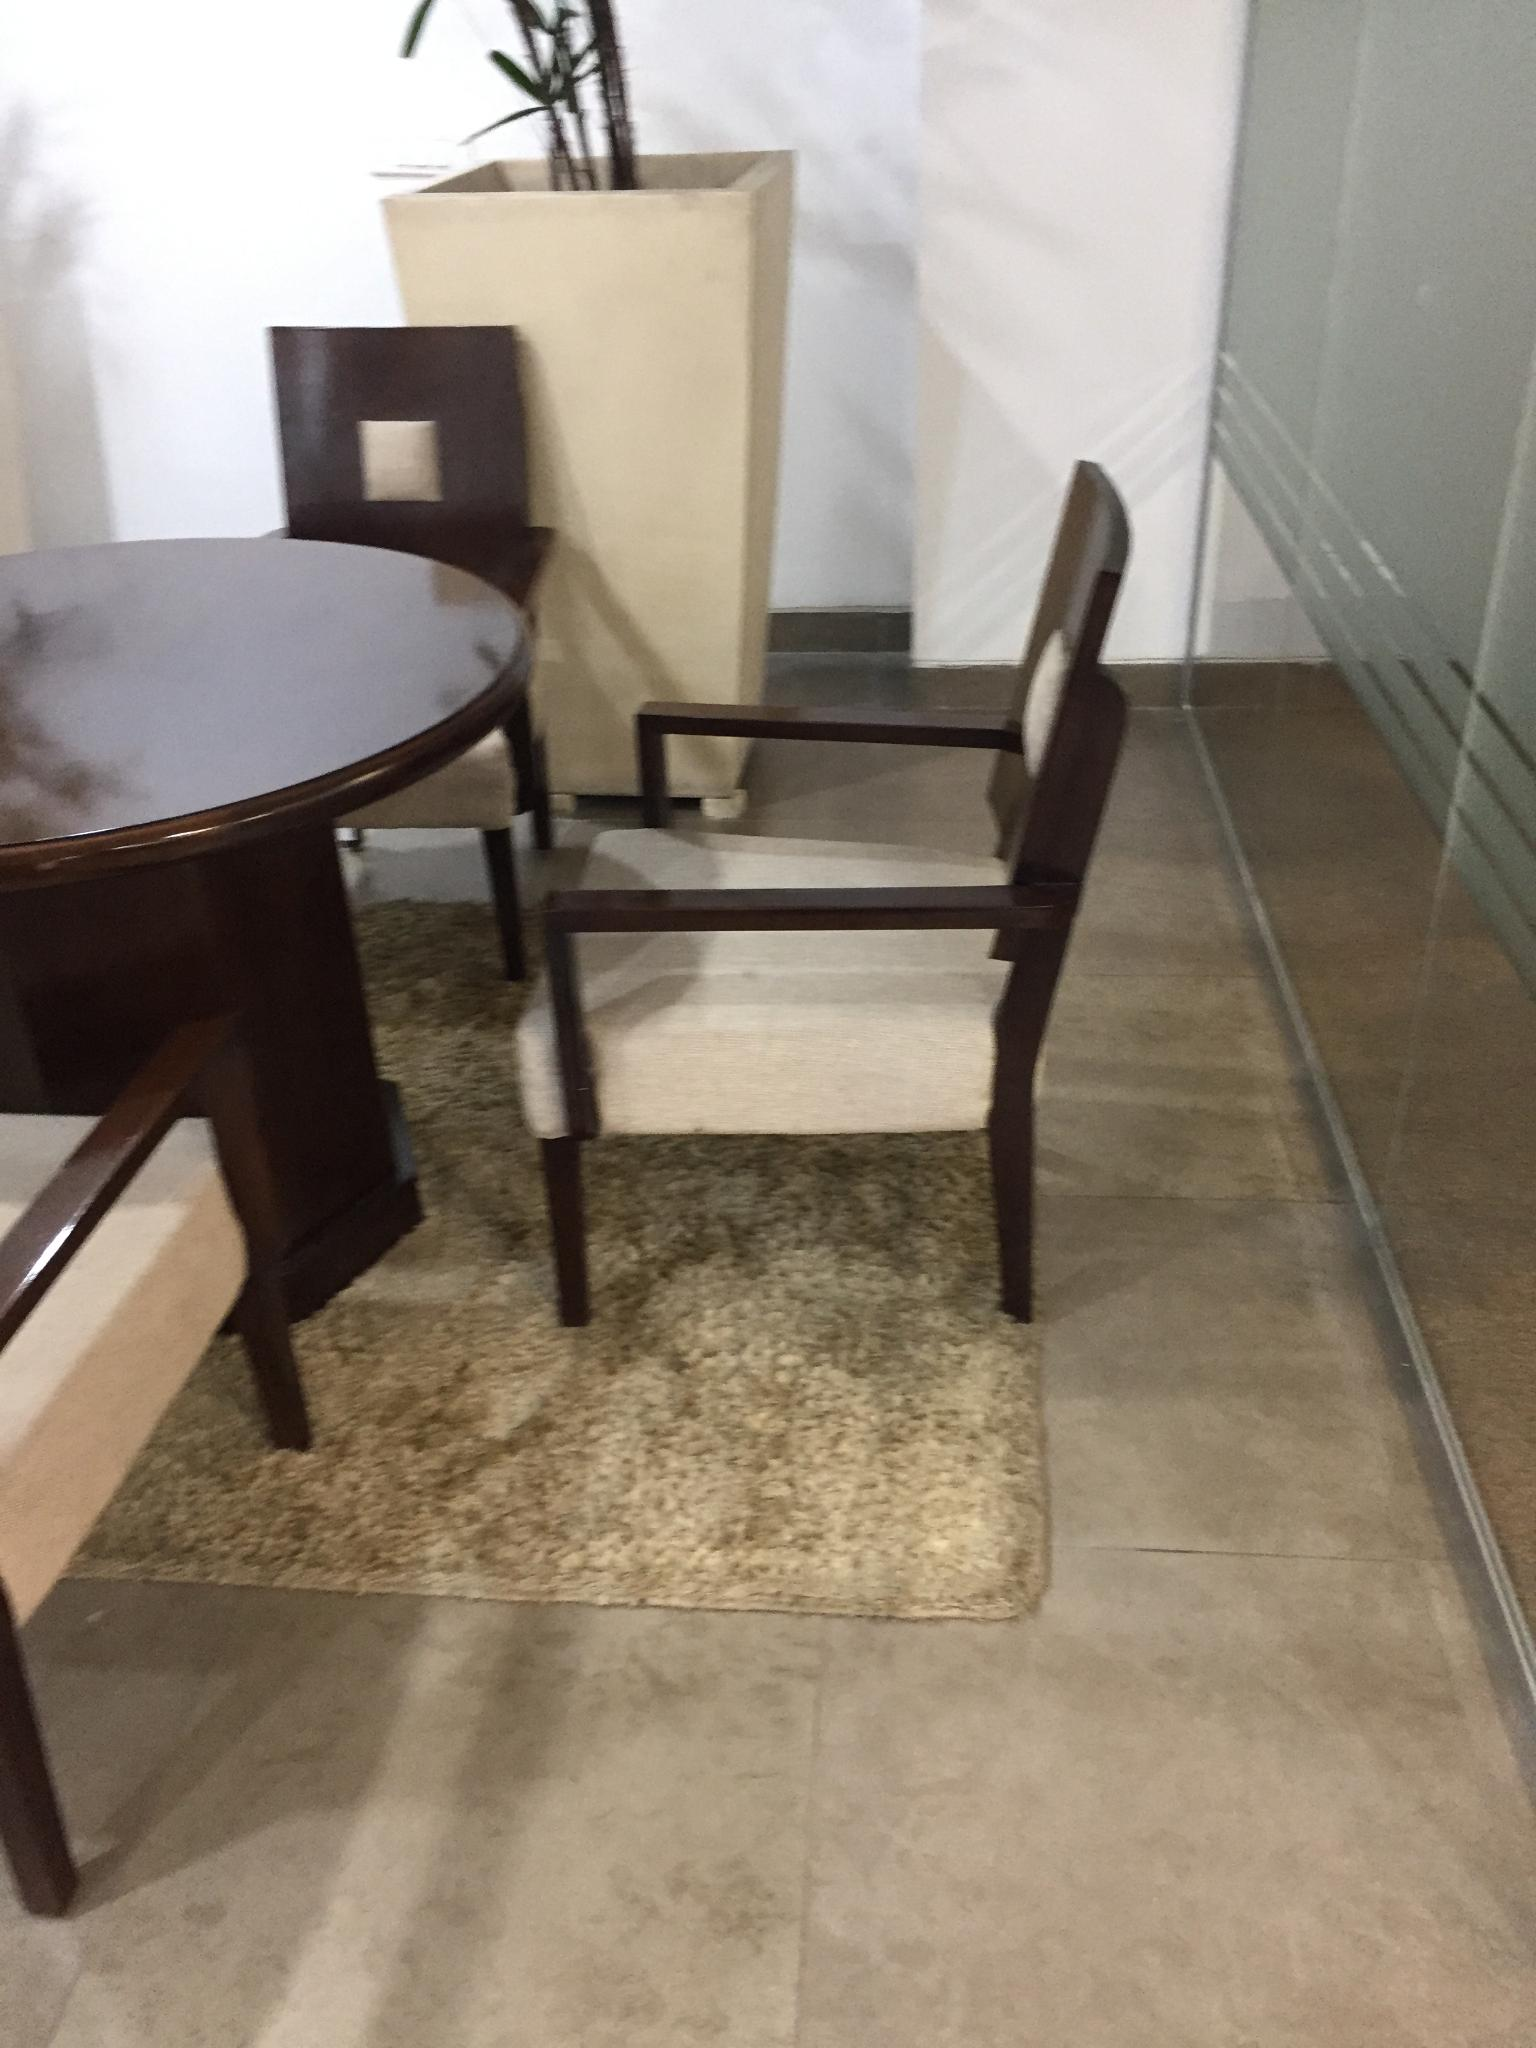chair: (516, 458, 1133, 1329), (0, 1000, 252, 1935), (261, 323, 557, 984)
